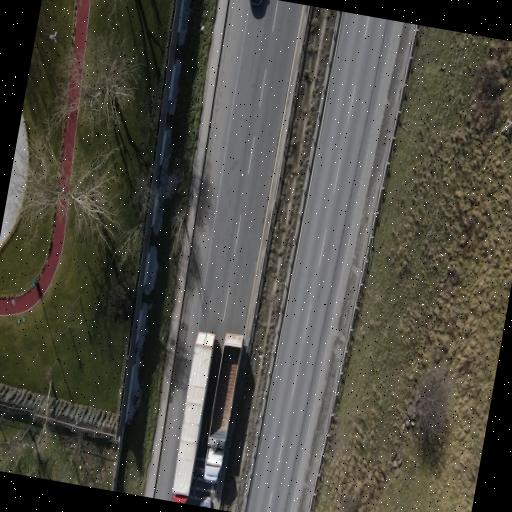UAI: (172, 331, 214, 503), (203, 333, 242, 480)
